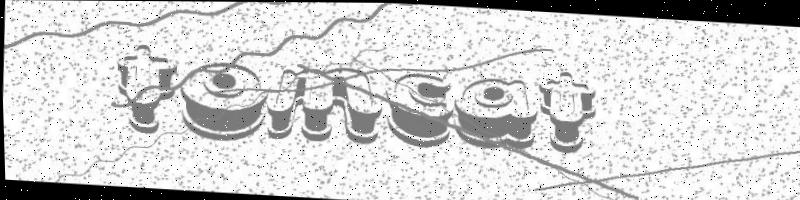a: (453, 73, 541, 151)
c: (379, 66, 456, 150)
m: (261, 59, 389, 145)
o: (173, 57, 272, 145)
t: (107, 37, 184, 135), (532, 64, 599, 154)
